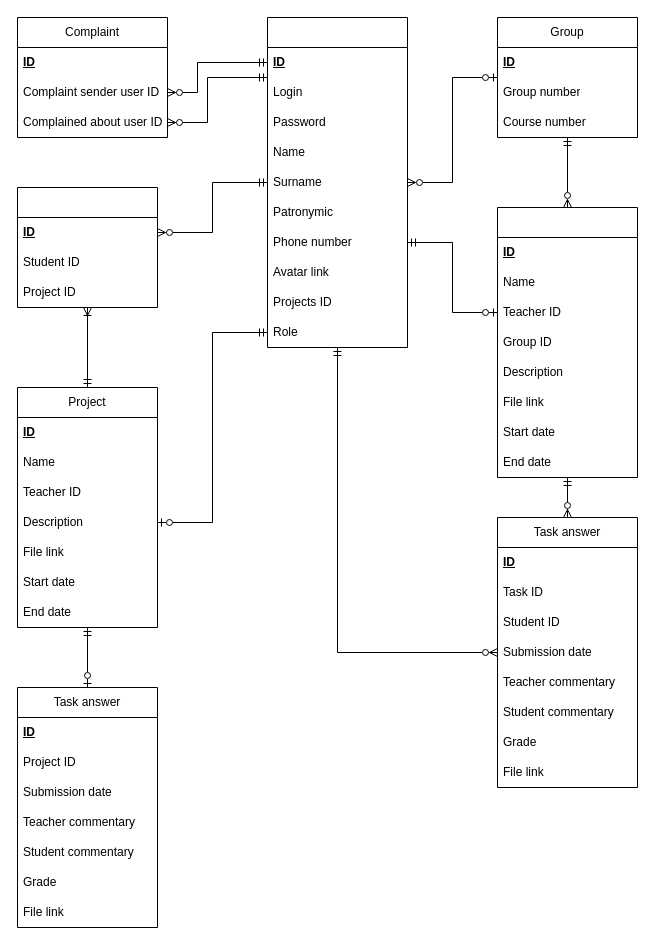
The diagram is 655 pixels wide and 945 high, and some of its shapes have lost their labels. The shapes that lost their labels are listed below. From the top down, each one's box as (x1, y1, x2, y2) in pixels, then its label:
(266, 16, 408, 348): User
(16, 186, 158, 308): Student Project
(496, 206, 638, 478): Task
